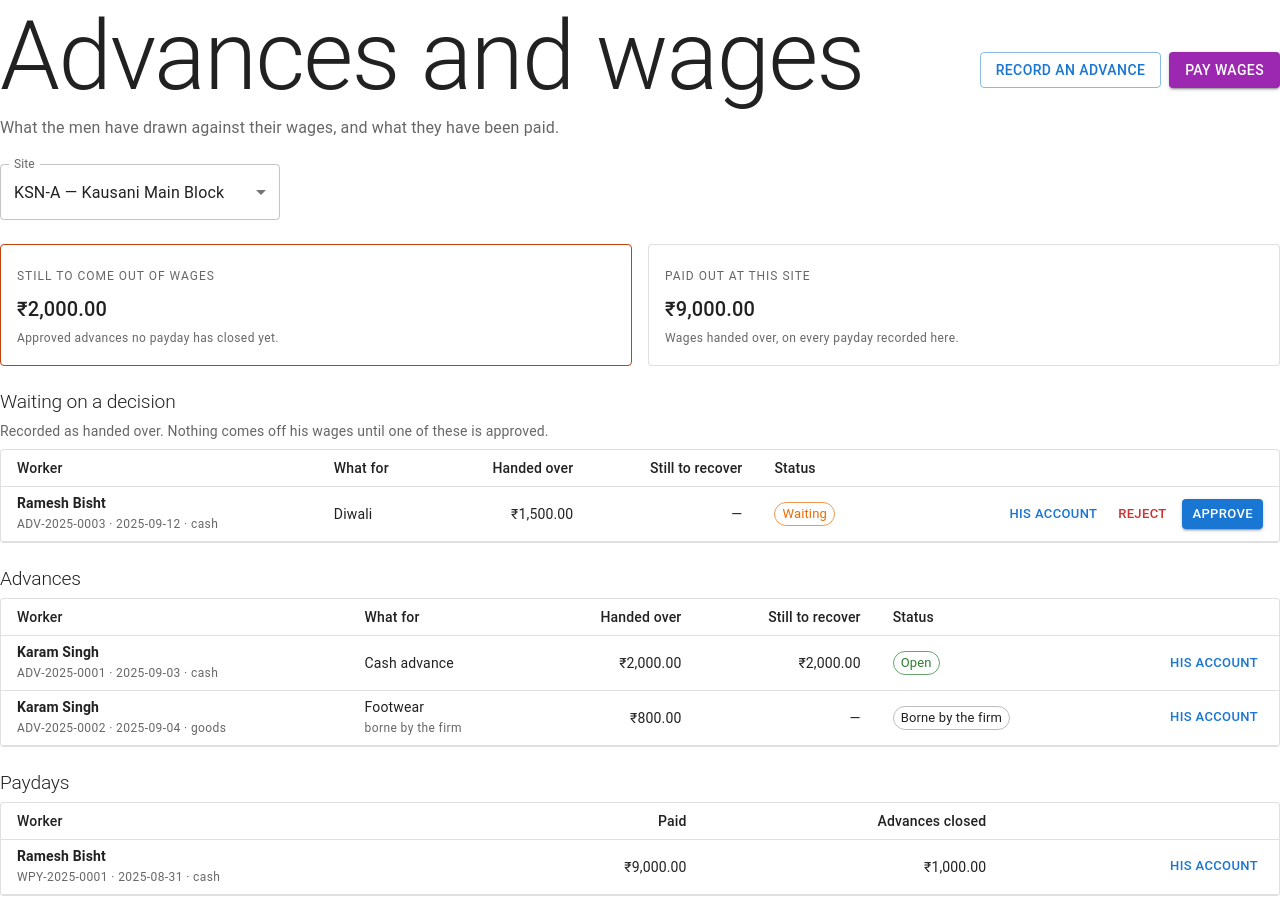
WorkerAdvancesPage › opens a man’s account with what he earned, drew and is owed
Expected: the heading "Waiting on a decision" is shown, left=0, top=390, right=176, bottom=413
What coordinates should you click on to do the following:
click the button "His account" in the row of "ADV-2025-0001"
I would click on:
 (1214, 663)
Its box is left=1165, top=648, right=1263, bottom=678.
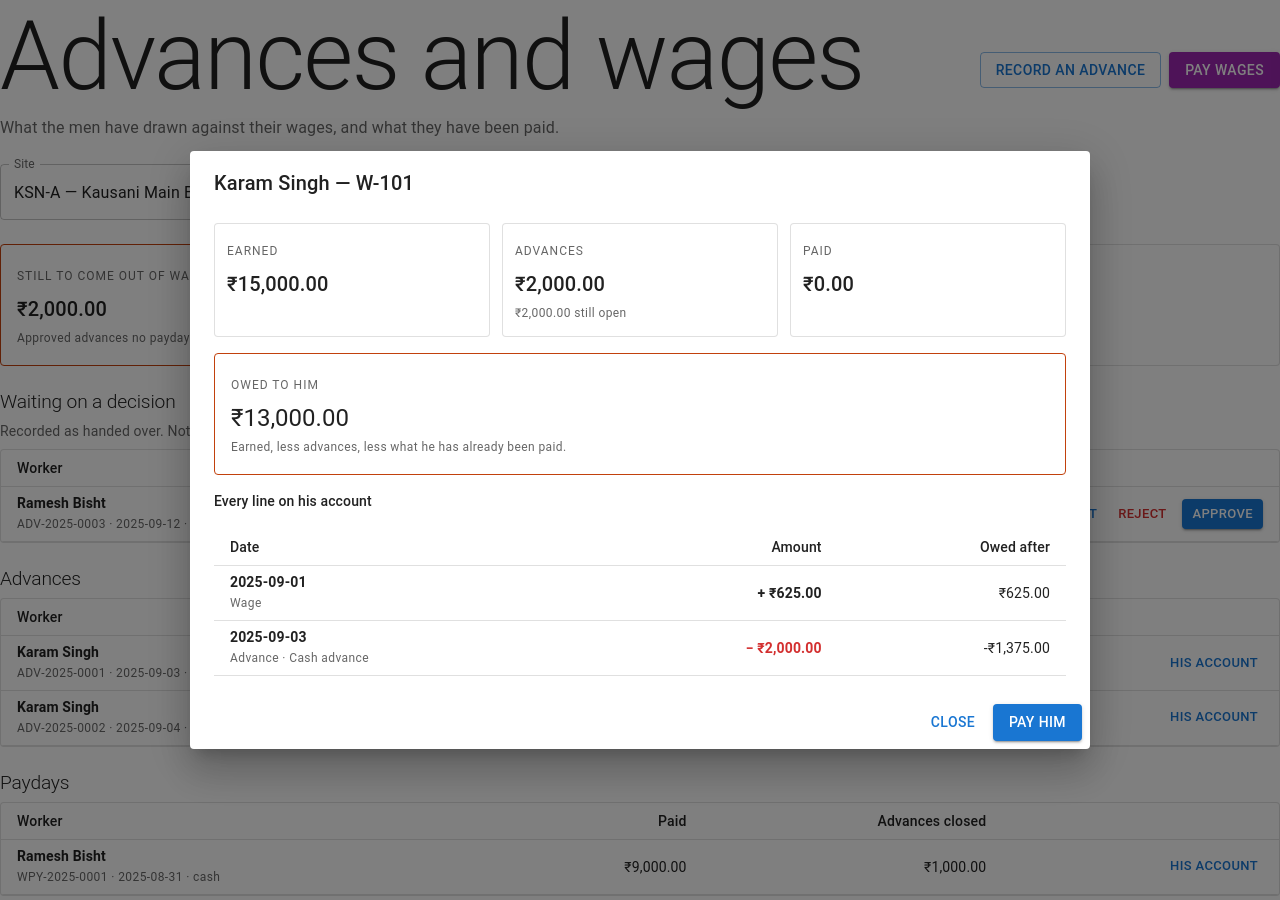
Result: the heading "Karam Singh — W-101" is shown at left=214, top=171, right=414, bottom=195
Result: the text "₹2,000.00 still open" is shown at left=515, top=306, right=627, bottom=320
